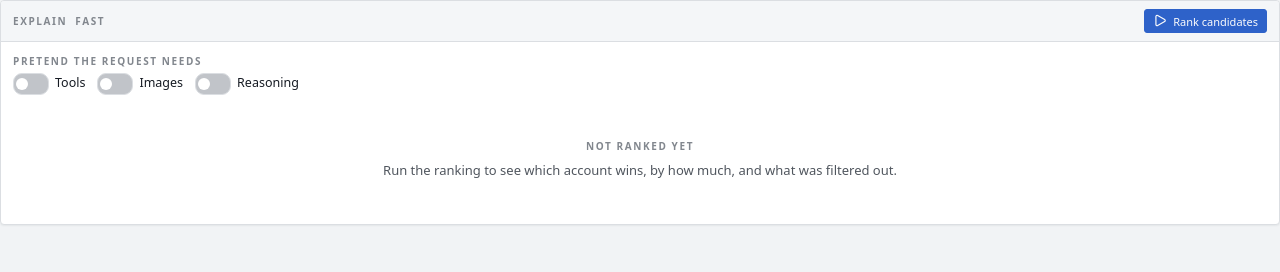
Test: ExplainPanel › a rejected model reports the gateway's message
Click the button "Rank candidates".
click(1206, 21)  # box top-left (1144, 9), bottom-right (1267, 33)
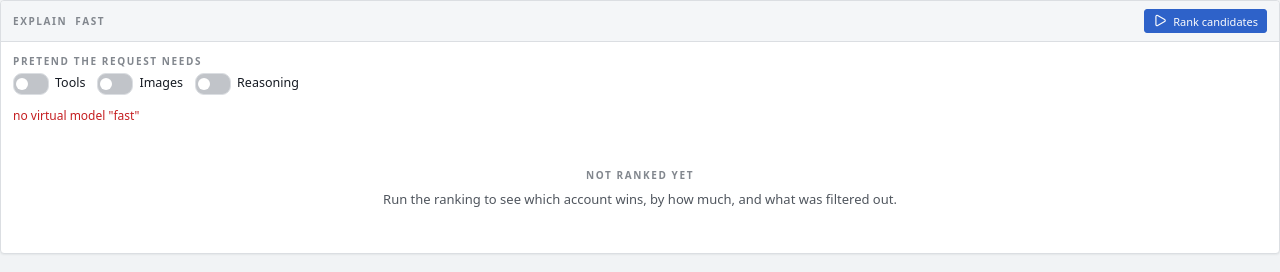
expect the text "no virtual model \"fast\"" is shown: met, box top-left (13, 106), bottom-right (140, 124)
